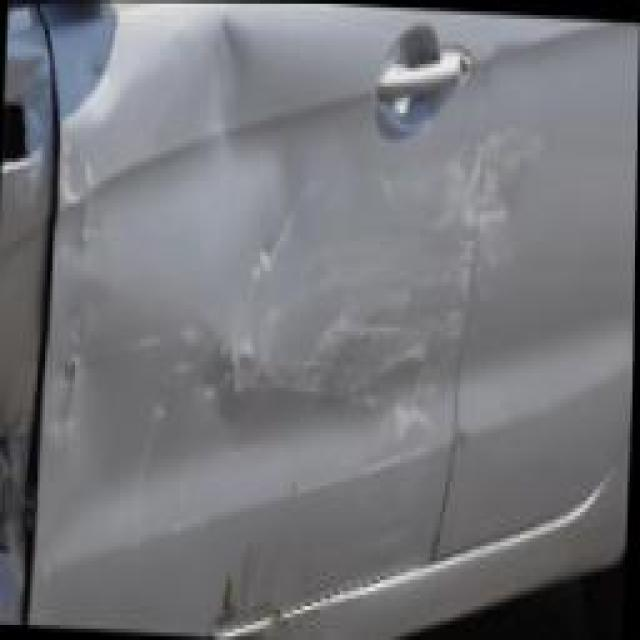Door: (26, 7, 493, 637), (466, 95, 563, 342)
Fender: (0, 393, 37, 574)
